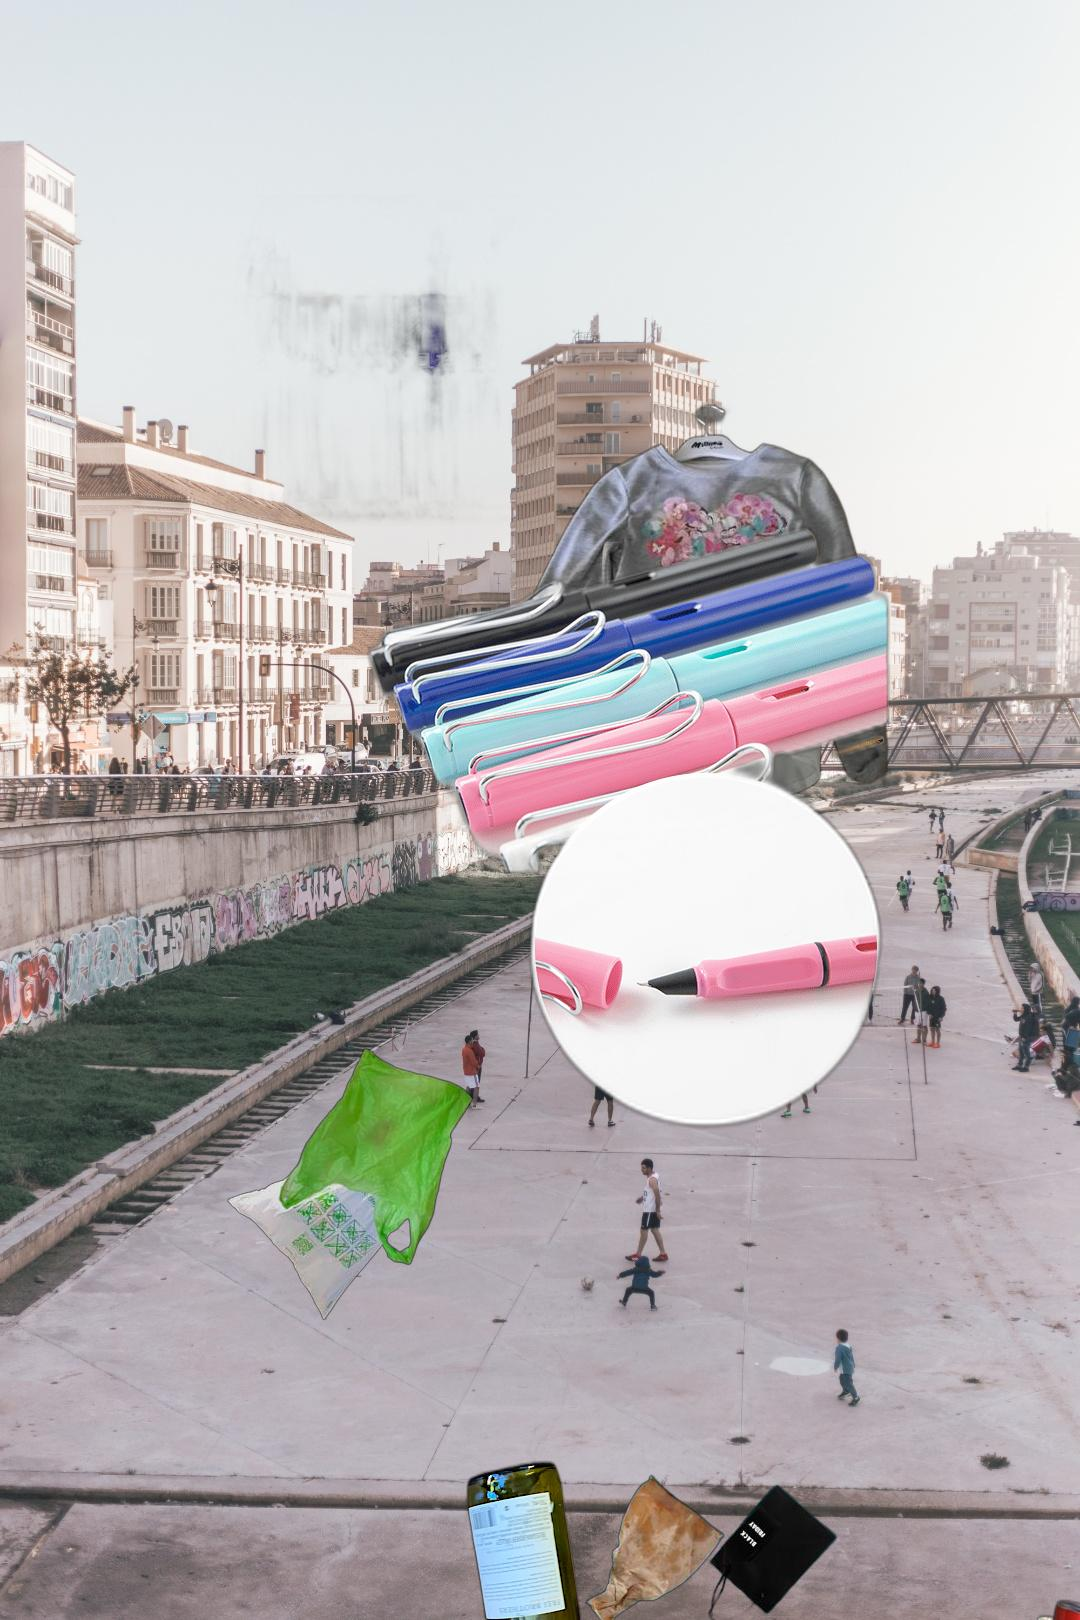clothes: (510, 400, 890, 812)
glass: (462, 1455, 586, 1620), (1019, 1609, 1080, 1620)
metal-cans: (1021, 1593, 1080, 1620)
paper-bag: (585, 1473, 839, 1620)
penholder: (362, 520, 896, 1135), (209, 194, 563, 526)
plastic-bag: (227, 1047, 476, 1322)
